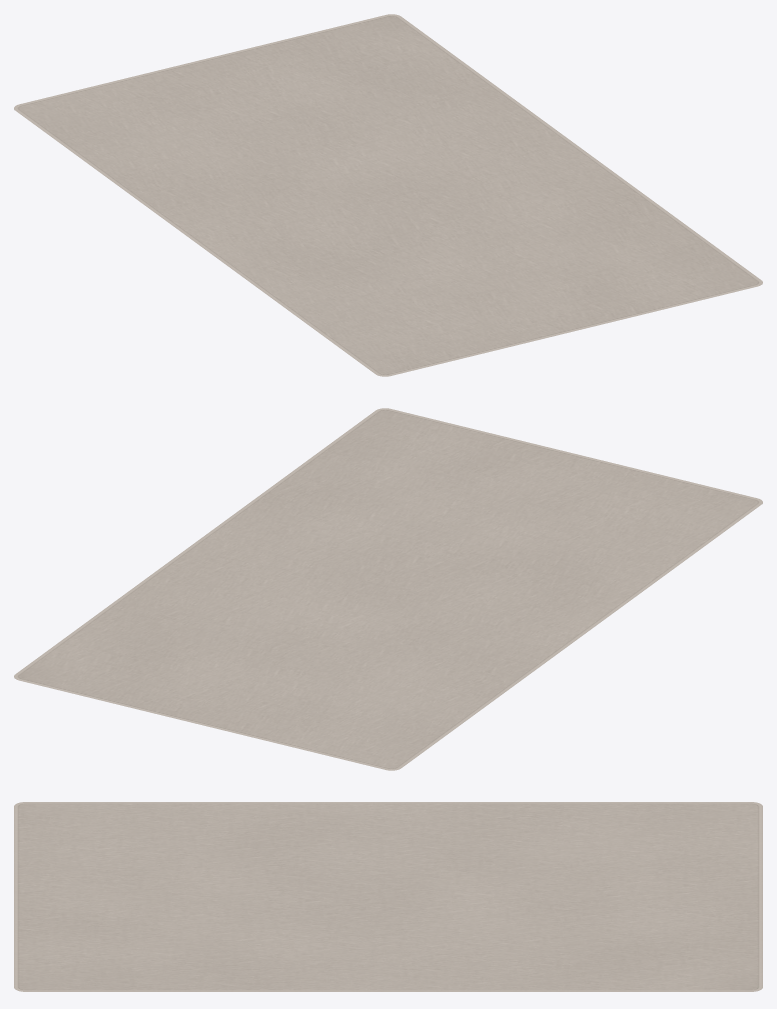
The model's file is beige_widehall.glb.
3 renders of one model, top to bottom at view 1: azimuth 30°, elevation 25°; view 2: azimuth 150°, elevation 25°; view 3: azimuth 270°, elevation 25°, orthographic.
Parts seen in each view (by area): view 1: reliv_beige_widehall; view 2: reliv_beige_widehall; view 3: reliv_beige_widehall.
Part boxes in pixels (x1,y1,x2,y2): reliv_beige_widehall: (14, 14, 762, 376); reliv_beige_widehall: (14, 408, 762, 770); reliv_beige_widehall: (14, 802, 762, 991).
Size of the model in its own units: 1.2 by 0.009 by 2.
Materials: 2 (1 with a texture image).
